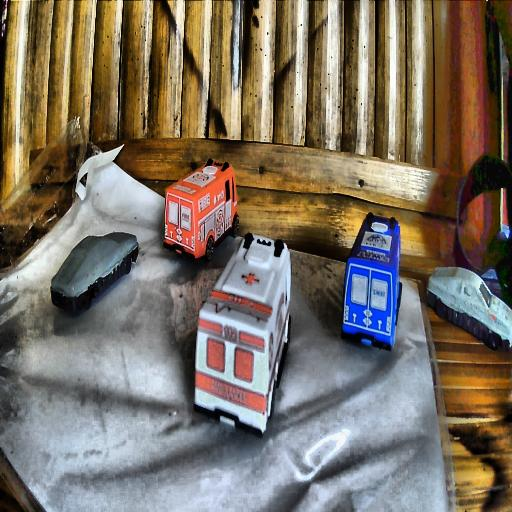ambulance: (193, 232, 290, 439)
fire_truck: (162, 157, 239, 262)
normal_car: (49, 231, 139, 316), (425, 265, 512, 352)
police car: (340, 211, 402, 353)
